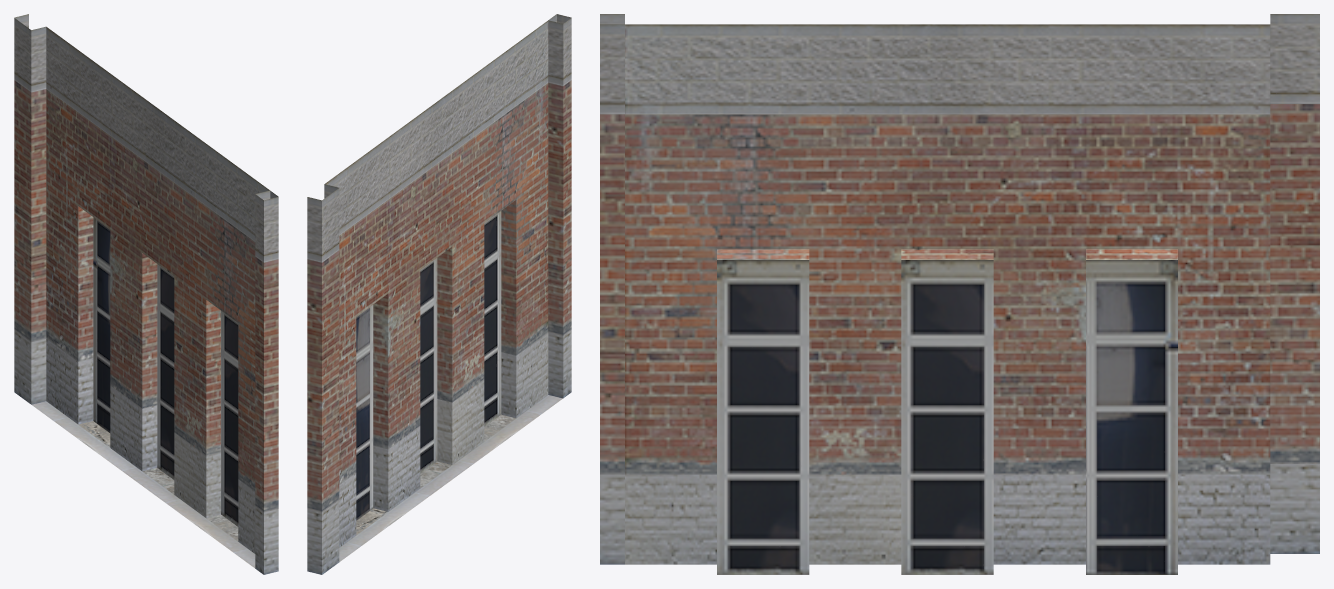
File: wall4.FBX
3 views of the same model, side by side, from view 1: azimuth 30°, elevation 25°; view 2: azimuth 150°, elevation 25°; view 3: azimuth 270°, elevation 25° (orthographic). The views are drawn at different scales.
Visible parts, largest first — view 1: StyleE-Building3; view 2: StyleE-Building3; view 3: StyleE-Building3.
Boxes of the visible parts, x1,y1,x2,y2 form: StyleE-Building3: (14,14,278,574); StyleE-Building3: (307,14,571,574); StyleE-Building3: (600,14,1319,574).
Size of the model in its own units: 50 by 600 by 725.
